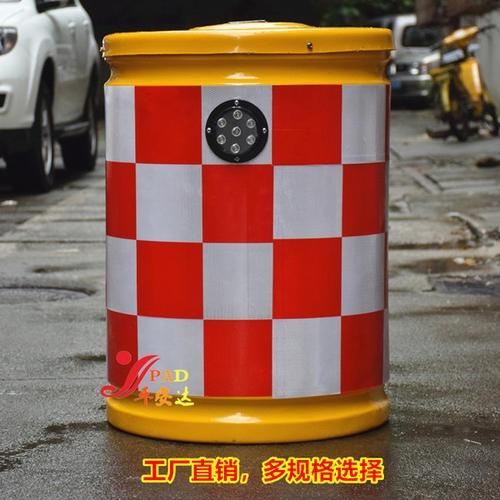cone_barrel: (97, 22, 403, 445)
